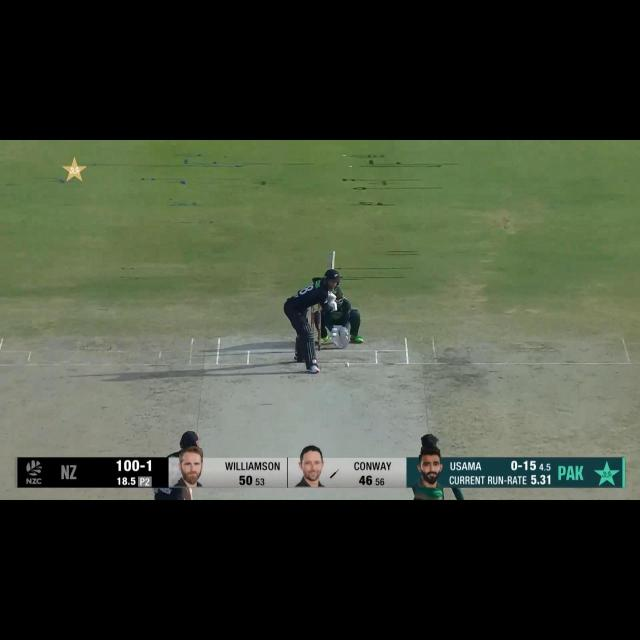bat: (330, 250, 337, 268)
toe: (330, 250, 338, 261)
